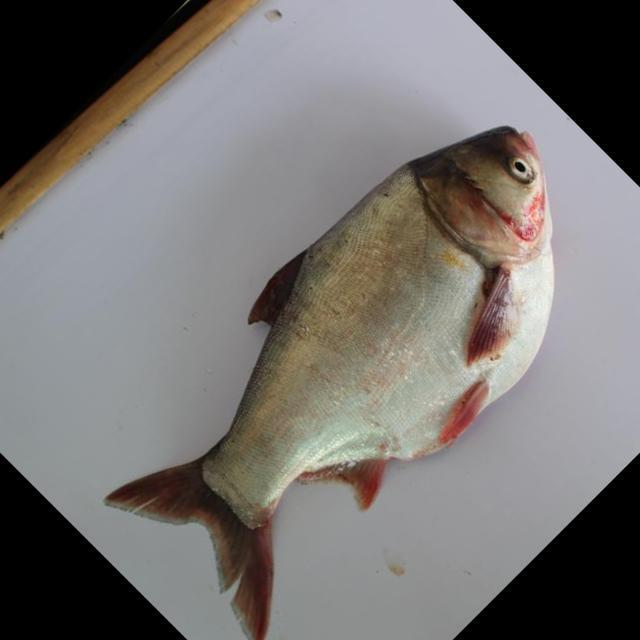SilverCarp: (91, 102, 563, 629)
